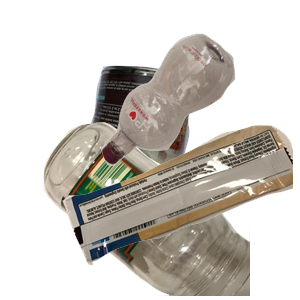glass: (41, 120, 281, 300)
metal: (78, 63, 266, 243)
plastic: (99, 31, 300, 189)
trash: (60, 123, 300, 300)
